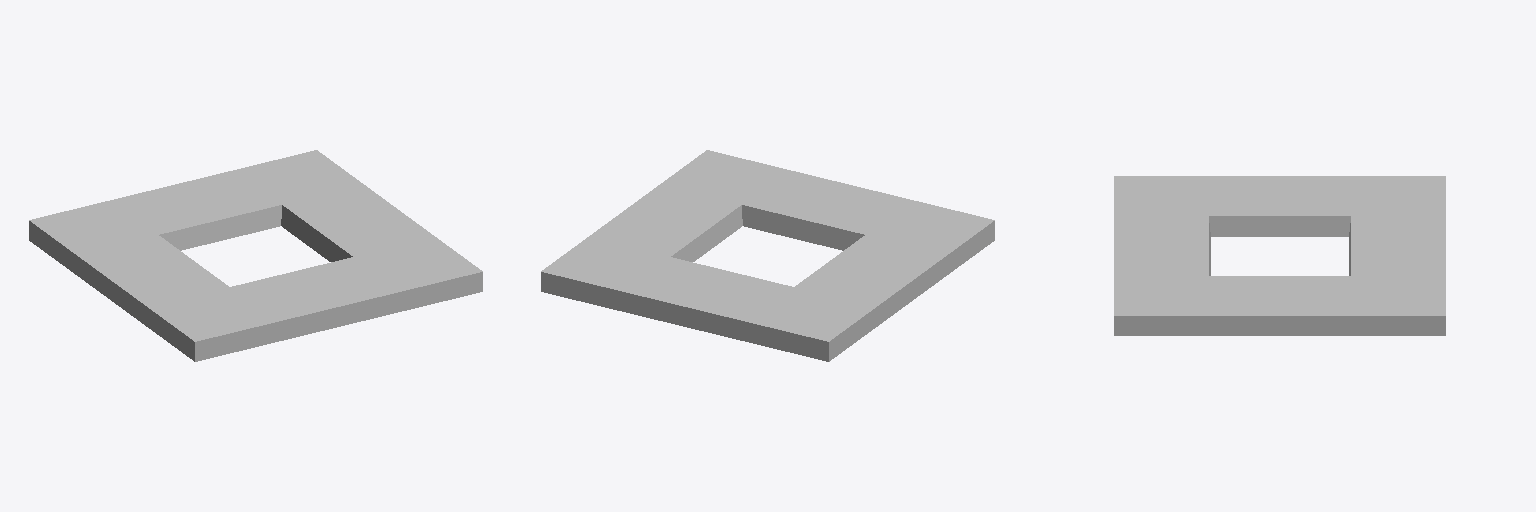
File: wall4.obj
The picture shows the model from 3 angles: view 1: azimuth 30°, elevation 25°; view 2: azimuth 150°, elevation 25°; view 3: azimuth 270°, elevation 25°; orthographic projection.
Visible parts, largest first — view 1: Cube.003; view 2: Cube.003; view 3: Cube.003.
Part boxes in pixels (bbox=[...]): Cube.003: bbox=[29, 150, 482, 361]; Cube.003: bbox=[541, 150, 994, 361]; Cube.003: bbox=[1114, 176, 1445, 335].
Size of the model in its own units: 3 by 0.2 by 3.